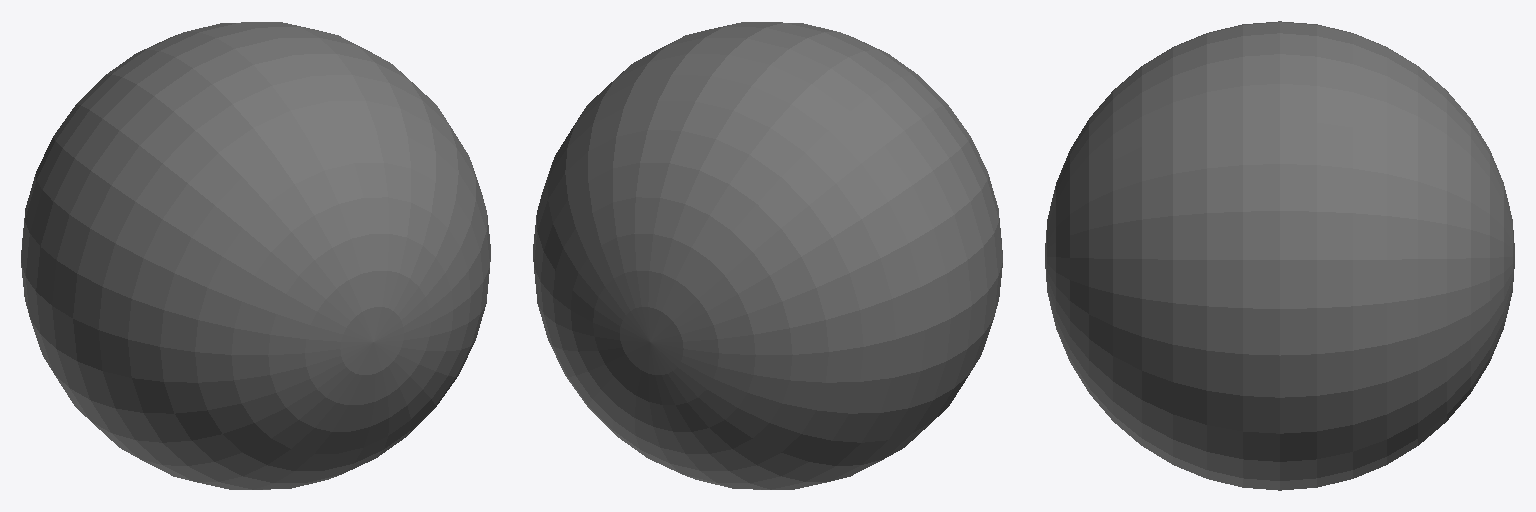
The model's file is objold.obj.
3 views of the same model, side by side, from view 1: azimuth 30°, elevation 25°; view 2: azimuth 150°, elevation 25°; view 3: azimuth 270°, elevation 25° (orthographic).
Visible parts, largest first — view 1: obj:pSphere1; view 2: obj:pSphere1; view 3: obj:pSphere1.
Boxes of the visible parts, <box> form: obj:pSphere1: <box>21,22,490,489</box>; obj:pSphere1: <box>533,22,1002,489</box>; obj:pSphere1: <box>1045,21,1514,490</box>.
Bounding box in the file's own units: 1 × 0.9945 × 1.